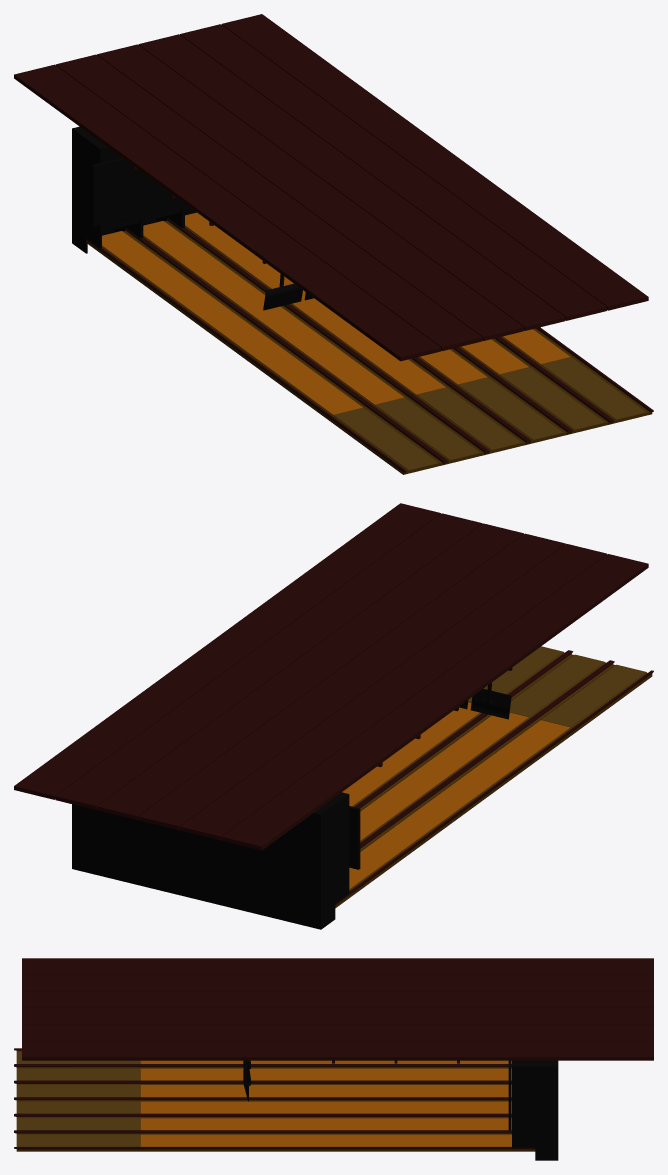
The model's file is BowlingAlley.fbx.
3 views of the same model, one above another, from view 1: azimuth 30°, elevation 25°; view 2: azimuth 150°, elevation 25°; view 3: azimuth 270°, elevation 25° (orthographic). The views are drawn at different scales.
Visible parts, largest first — view 1: Cube, Cube.001; view 2: Cube, Cube.001; view 3: Cube.
Boxes of the visible parts, x1,y1,x2,y2 form: Cube: (14,14,653,474); Cube.001: (91,158,185,226); Cube: (14,503,653,929); Cube.001: (349,806,360,869); Cube: (14,958,653,1160).
Size of the model in its own units: 926 by 417 by 2353.
